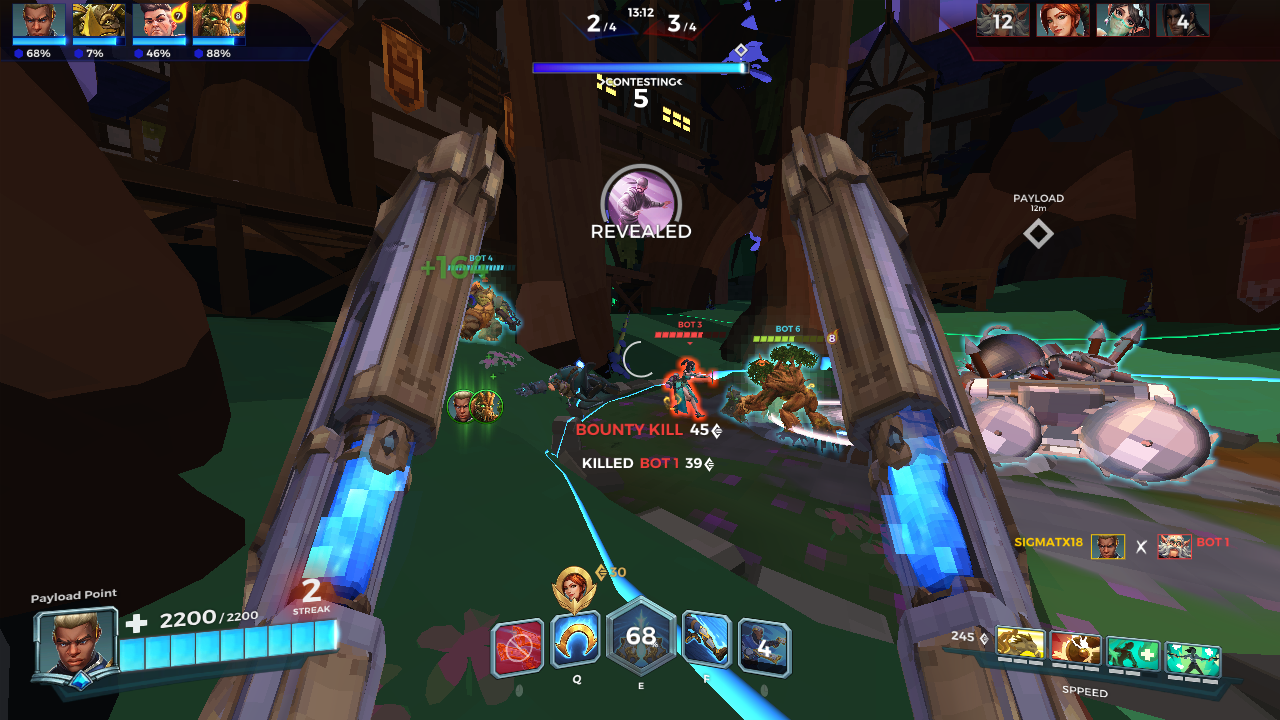model: (667, 353, 709, 422)
